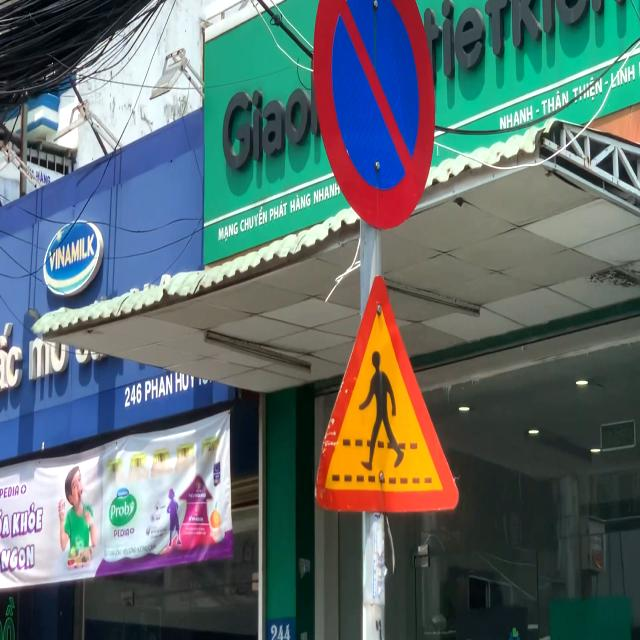P.131a: (312, 0, 440, 234)
W.224: (308, 267, 462, 520)
